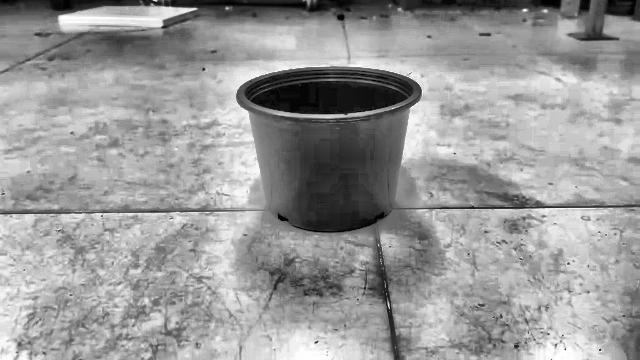pot: (238, 68, 421, 232)
